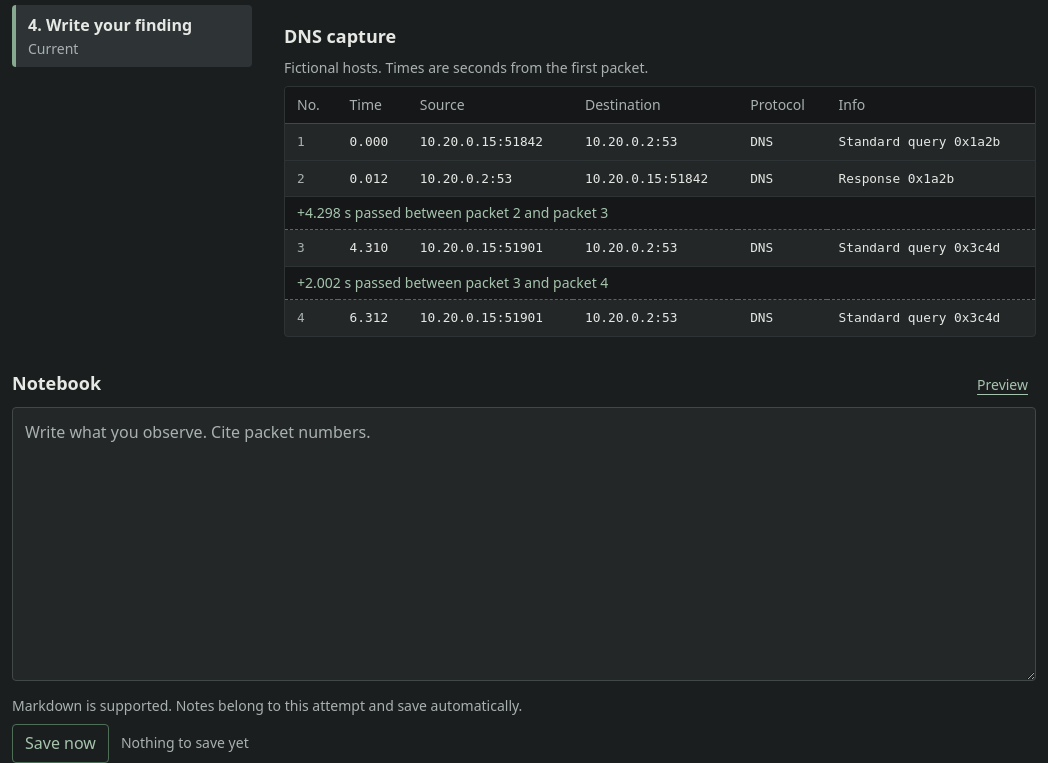
Scenario: Workspace: notebook › keeps the text and reports the failure when a save fails, then recovers on retry
(page scrolled)
Type "10.20.0.15 is the client" into the text box named "Notebook" at (524, 544), box x1=12 y1=407 x2=1036 y2=681
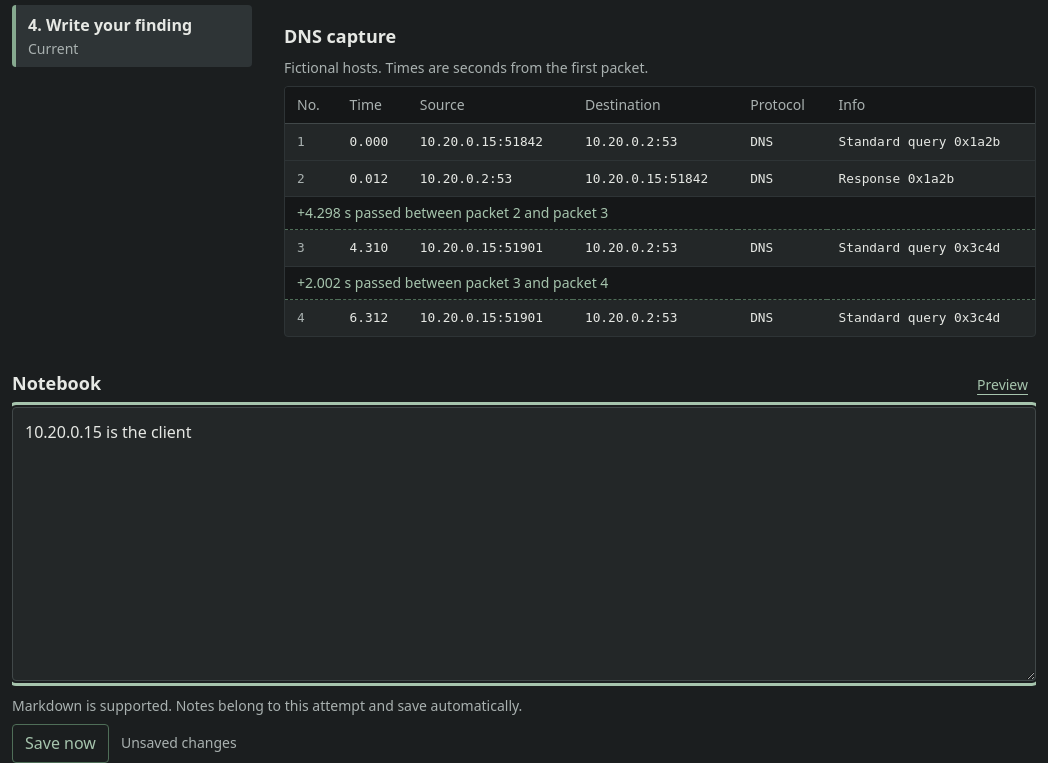
Click the button "Save now" at (60, 743), box x1=12 y1=724 x2=109 y2=762
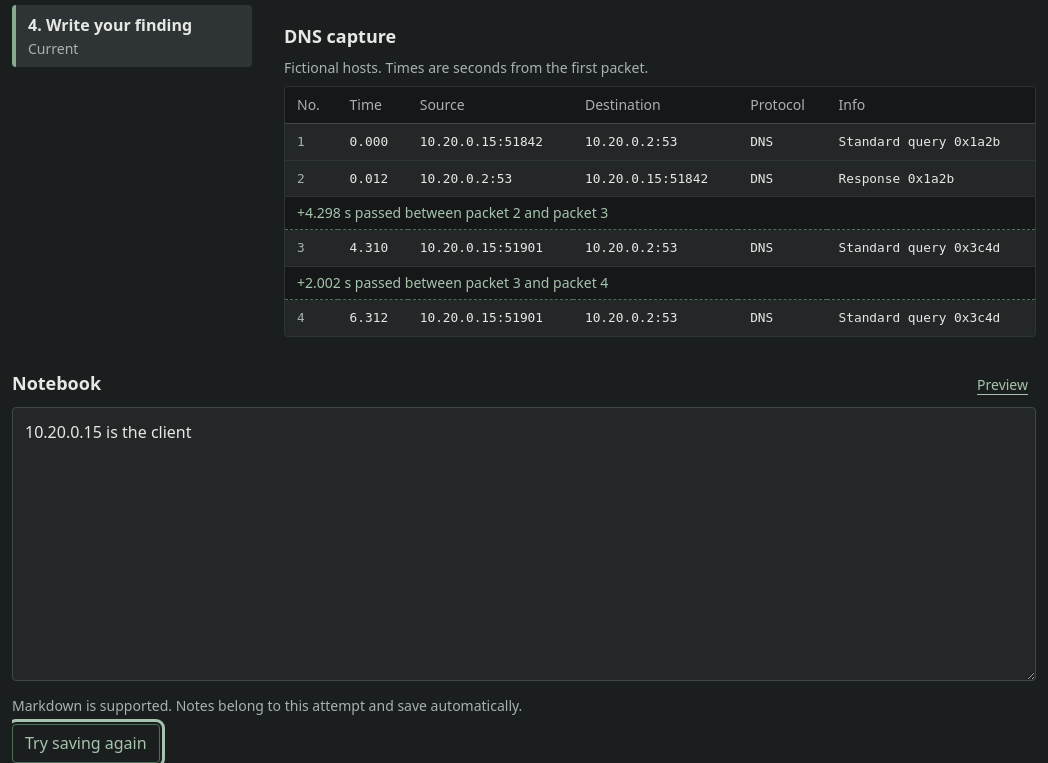
Click the button "Try saving again" at (86, 743), box x1=12 y1=724 x2=160 y2=762
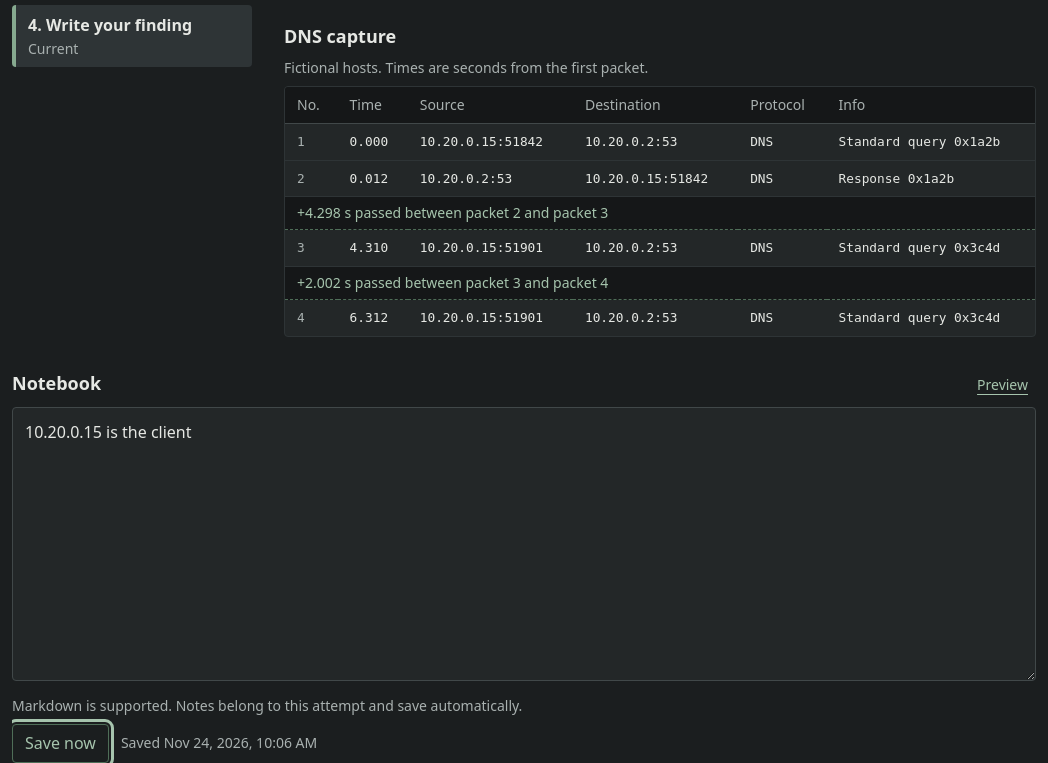
Now the message "Saved Nov 24, 2026, 10:06 AM" is shown, box x1=121 y1=733 x2=317 y2=753
